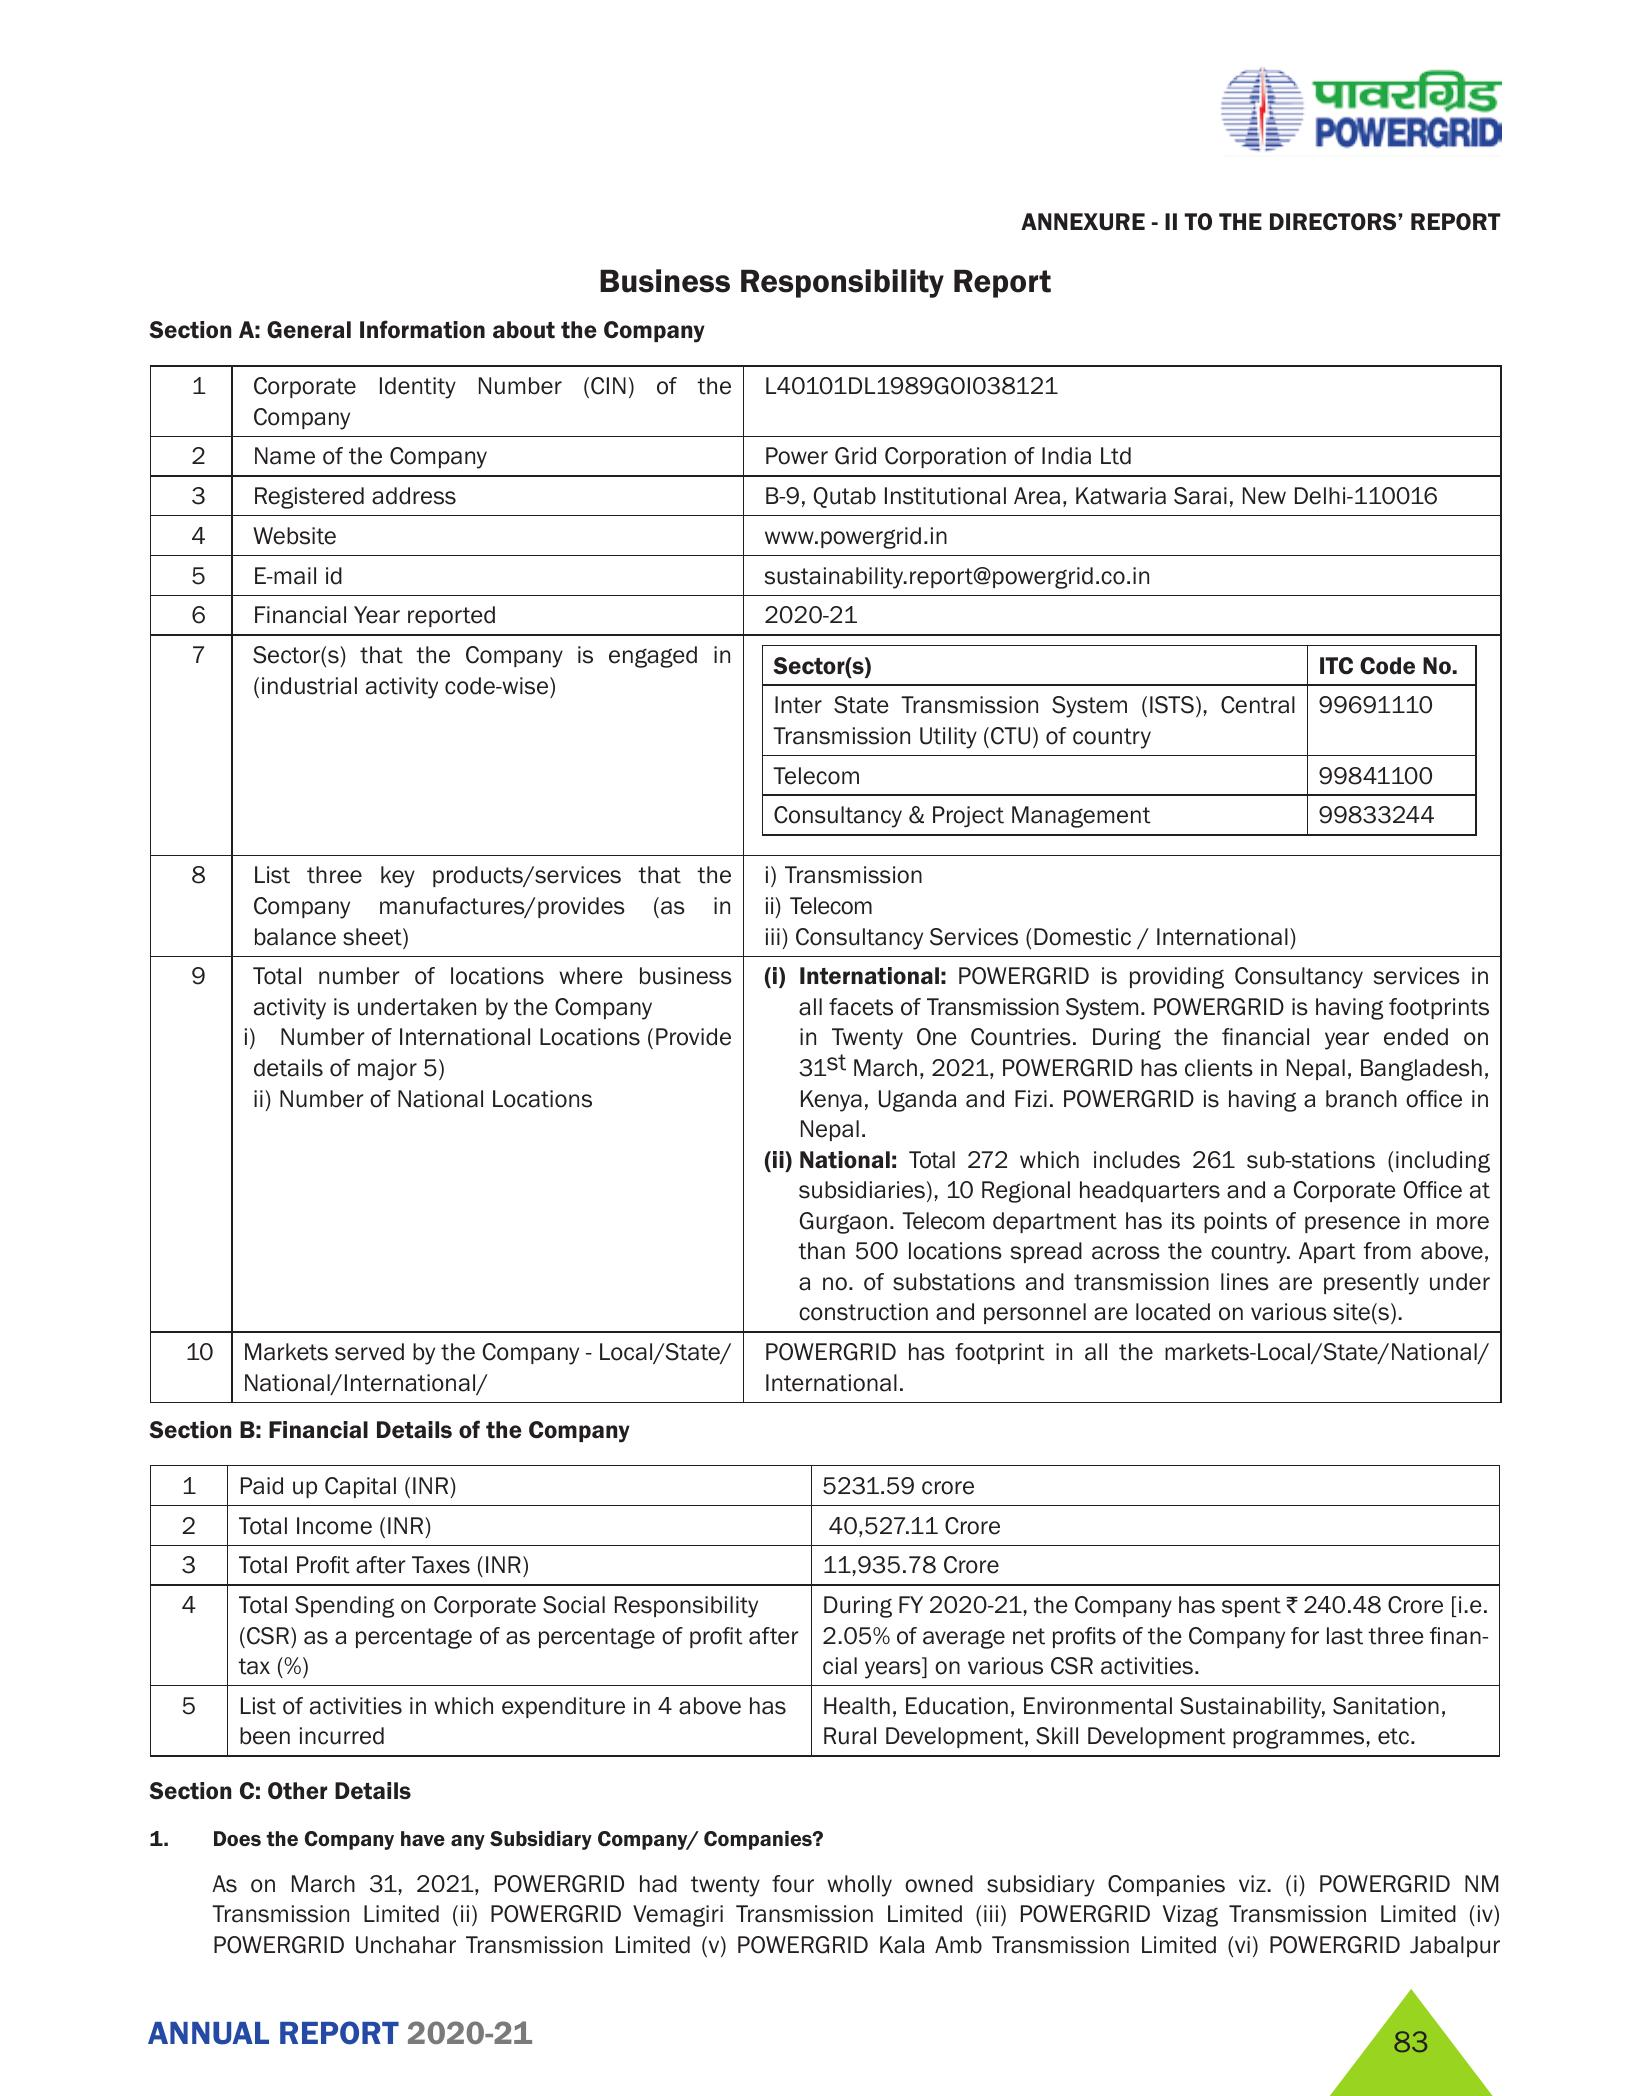Footer: (0, 1974, 1650, 2096)
Header: (0, 0, 1650, 175)
Table: (99, 344, 1533, 1776)
